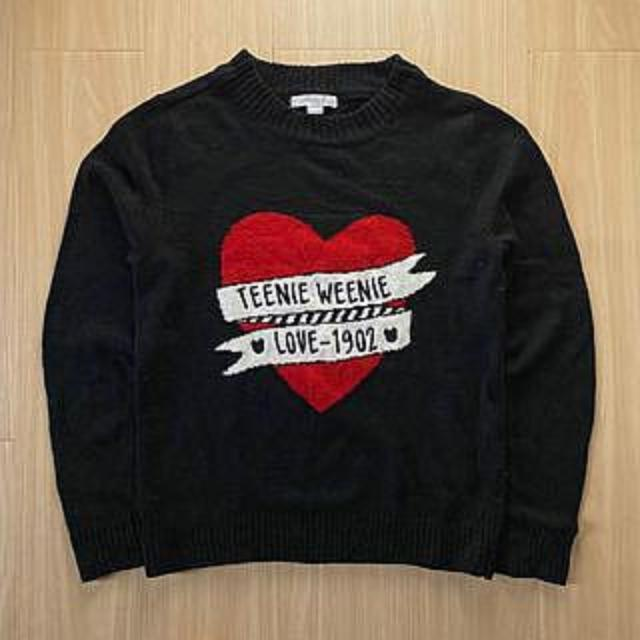SHIRT: (38, 32, 624, 594)
